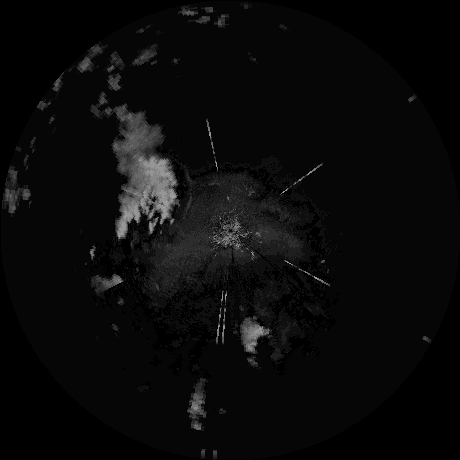frontgust: (182, 162, 196, 220)
